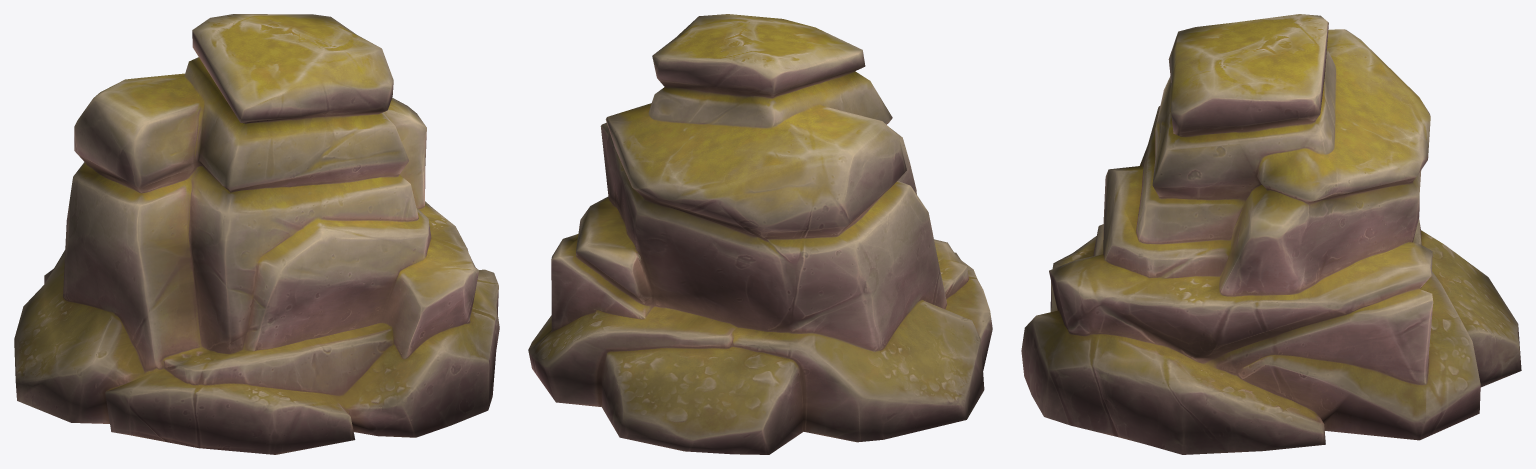
The model's file is stylized_rock__agustin_honnun.glb.
3 renders of one model, left to right at view 1: azimuth 30°, elevation 25°; view 2: azimuth 150°, elevation 25°; view 3: azimuth 270°, elevation 25°, orthographic. The views are drawn at different scales.
Parts seen in each view (by area): view 1: Stone_low; view 2: Stone_low; view 3: Stone_low.
Boxes of the visible parts, x1=… form: Stone_low: x1=14, y1=14, x2=499, y2=454; Stone_low: x1=528, y1=14, x2=992, y2=454; Stone_low: x1=1021, y1=14, x2=1521, y2=454.
Bounding box in the file's own units: 4.42 × 3.27 × 4.49.
1 material, 1 textured.
